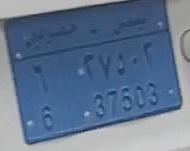city: (14, 59, 70, 139)
number: (65, 35, 181, 131)
